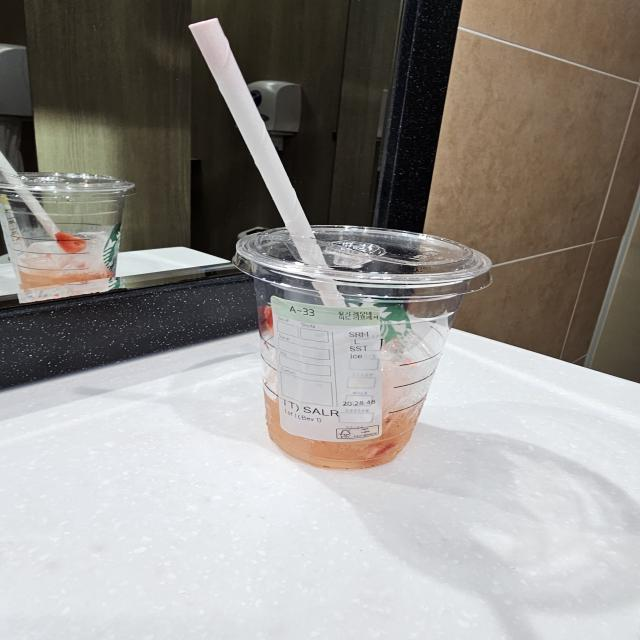cup: (225, 213, 492, 472)
